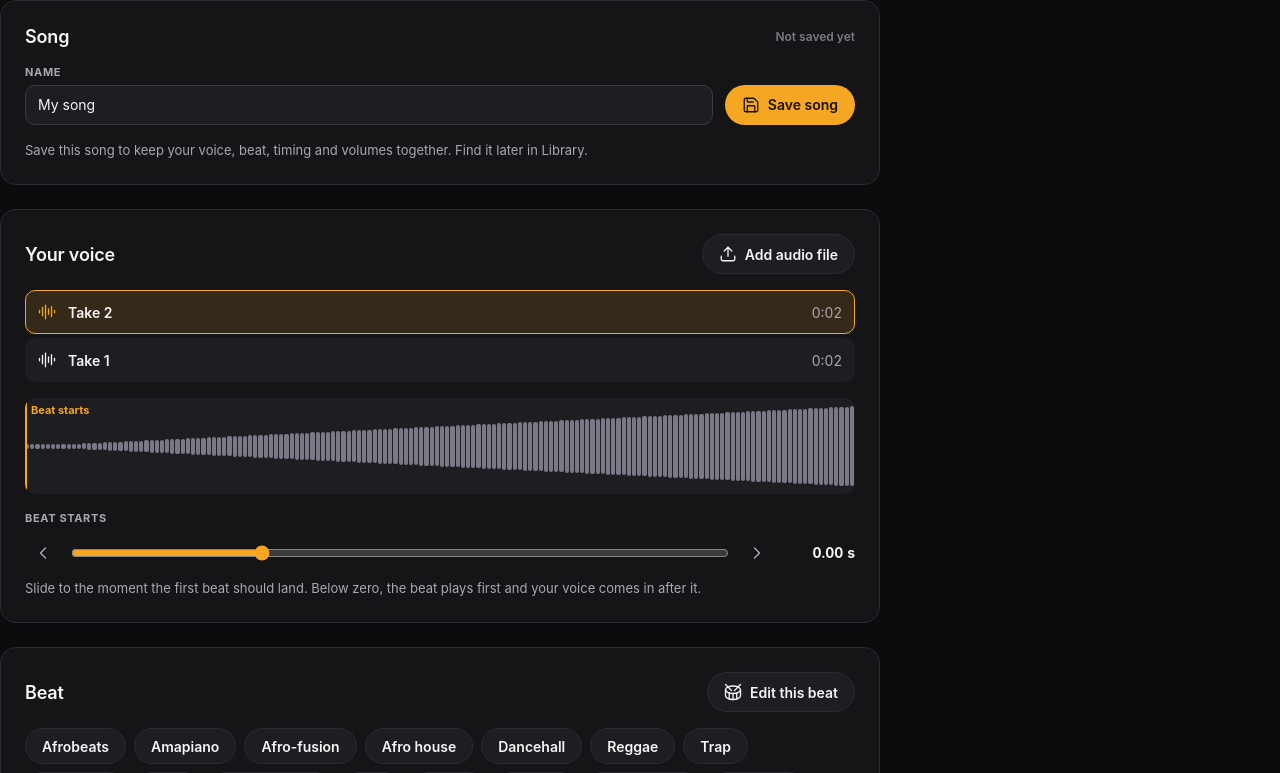
Scenario: lining the beat up with the voice › choosing a different voice resets the beat start
Set the slider labelled "Beat starts" to "2": (446, 553) [71,545,729,561]
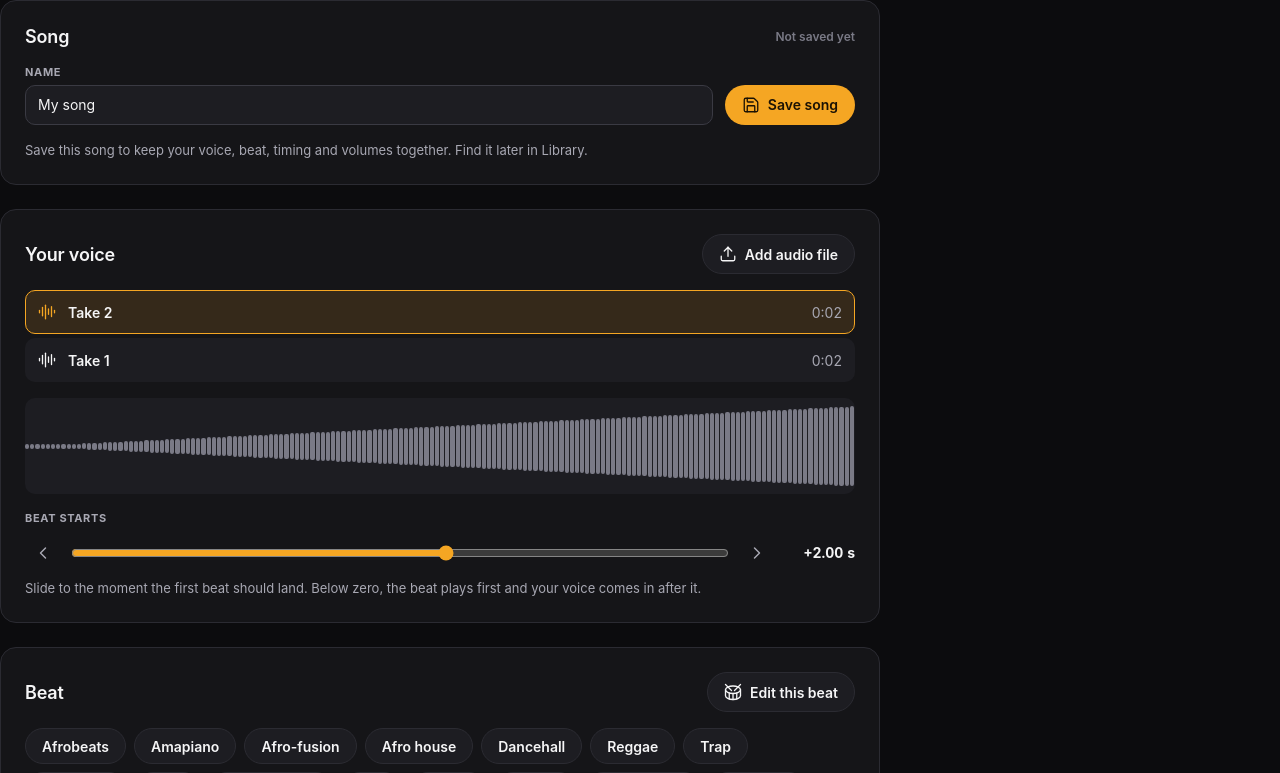
Check: the text "+2.00 s" is shown, box [803,544,855,561]
Click the radio button labelled "Take 1 0:02": (89, 360) [25,338,855,382]
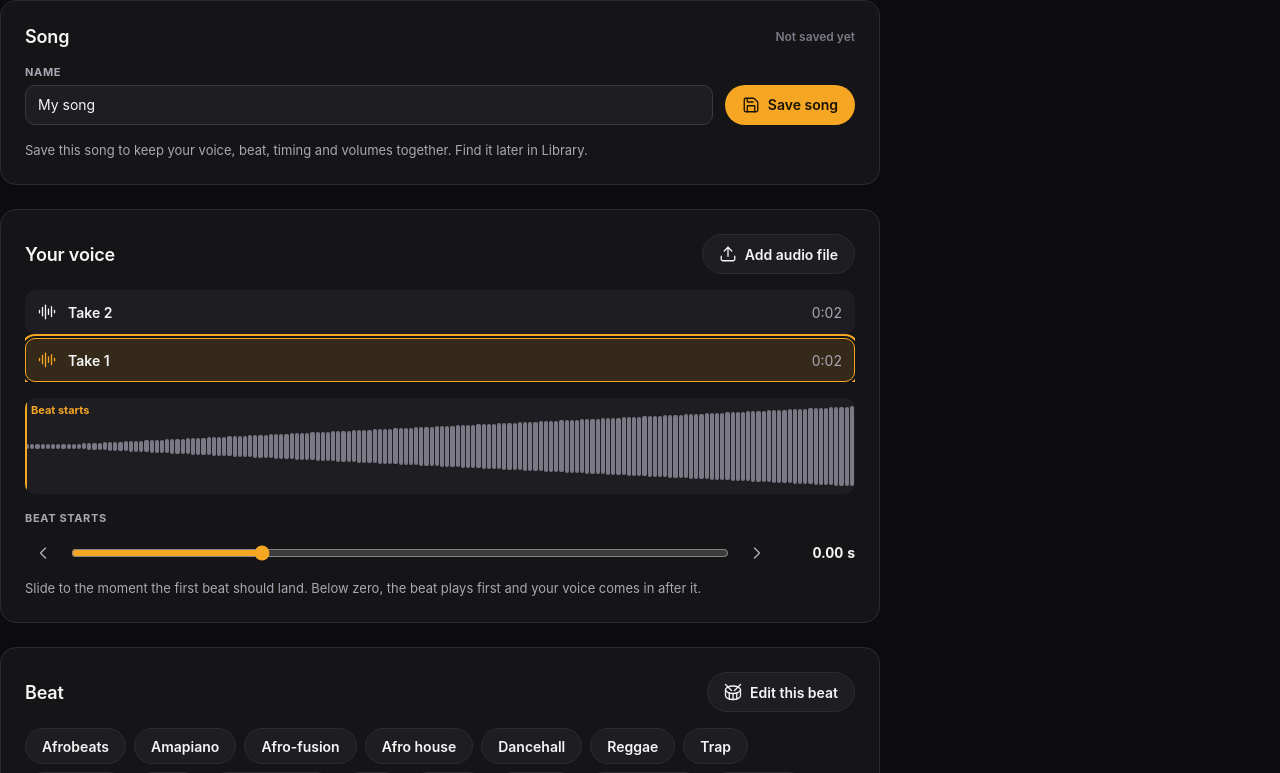
Check: the text "0.00 s" is shown, box [812,544,855,561]
